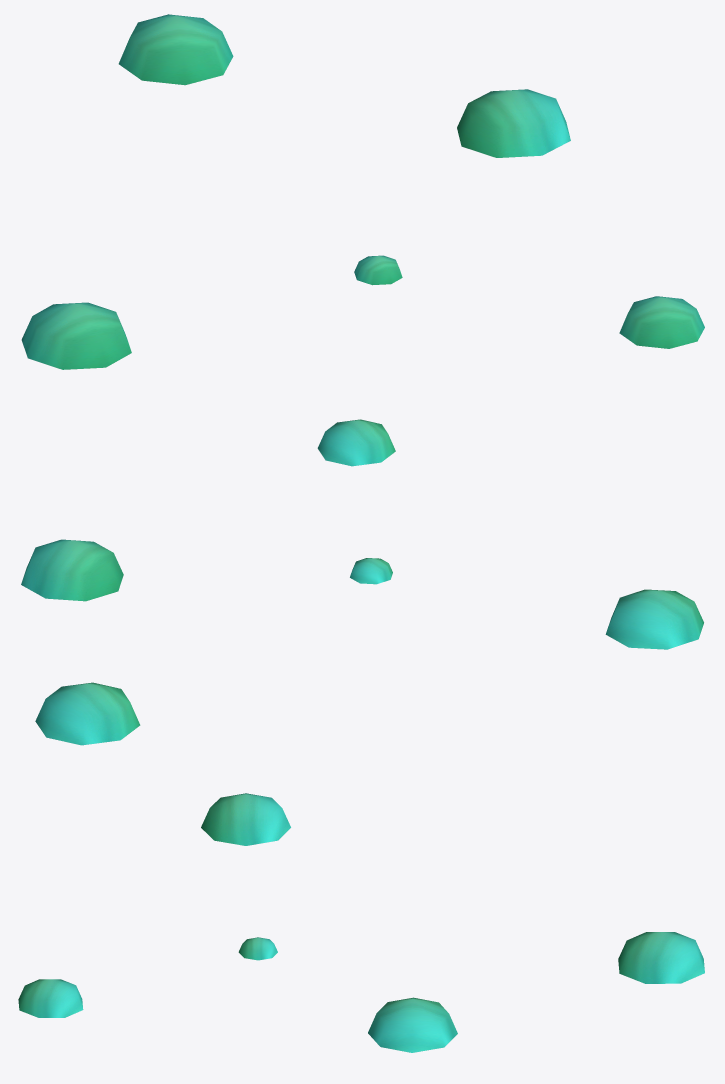
The model's file is borean_bubbles_01.obj.
3 renders of one model, top to bottom at view 1: azimuth 30°, elevation 25°; view 2: azimuth 150°, elevation 25°; view 3: azimuth 270°, elevation 25°, orthographic. The views are drawn at different scales.
Visible parts, largest first — view 1: Geoset2, Geoset1, Geoset0, Geoset4, Geoset3; view 2: Geoset1, Geoset2, Geoset0, Geoset4, Geoset3; view 3: Geoset1, Geoset2, Geoset0, Geoset4, Geoset3.
Boxes of the visible parts, bbox=[...] form: Geoset2: bbox=[457, 89, 570, 157]; Geoset1: bbox=[118, 14, 233, 85]; Geoset0: bbox=[21, 302, 131, 369]; Geoset4: bbox=[619, 296, 704, 348]; Geoset3: bbox=[354, 255, 402, 285]; Geoset1: bbox=[35, 682, 140, 745]; Geoset2: bbox=[21, 539, 123, 601]; Geoset0: bbox=[605, 589, 703, 649]; Geoset4: bbox=[317, 419, 395, 466]; Geoset3: bbox=[350, 558, 392, 584]; Geoset1: bbox=[618, 932, 704, 983]; Geoset2: bbox=[368, 997, 457, 1052]; Geoset0: bbox=[201, 793, 290, 845]; Geoset4: bbox=[18, 979, 83, 1017]; Geoset3: bbox=[238, 937, 277, 960].
Bounding box in the file's own units: 3.37 × 0.3017 × 3.98.
Materials: 1 (1 with a texture image).
